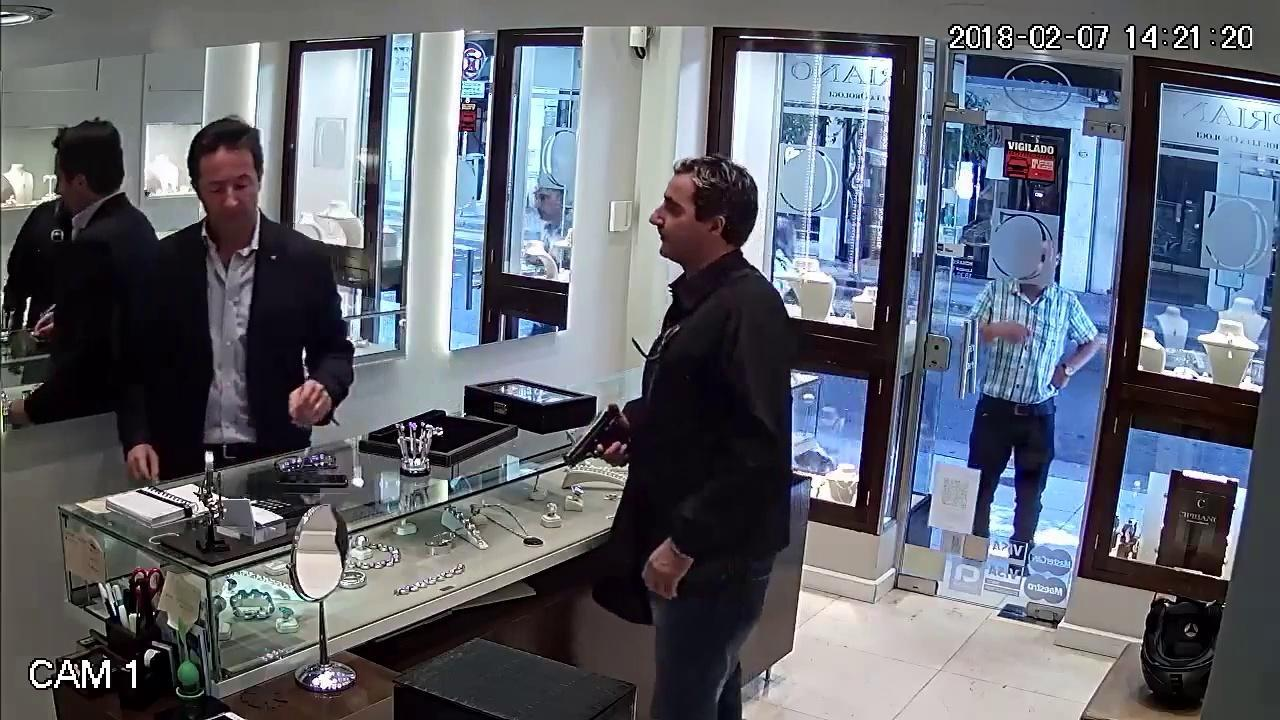Guns perspective: (544, 380, 644, 494)
